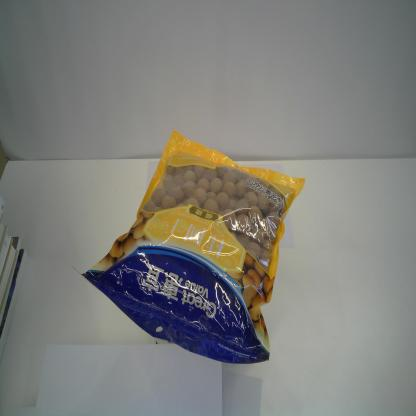Dried Food: (70, 127, 306, 366)
